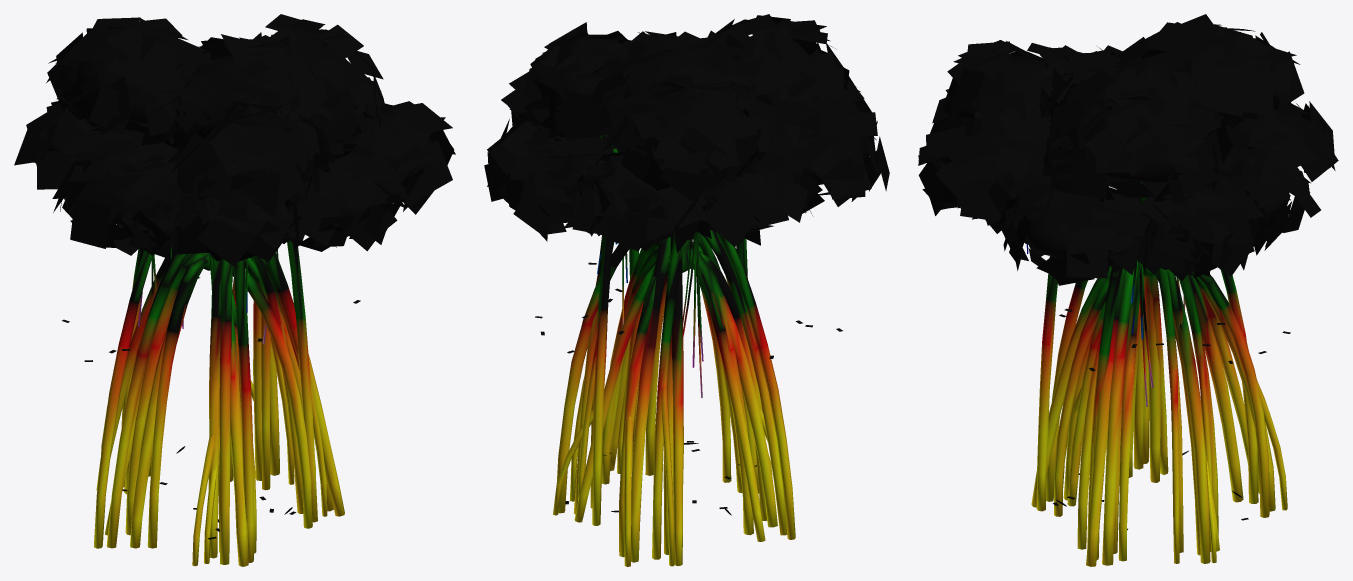
Rendered from mangrove_b.glb.
The picture shows the model from 3 angles, left to right: view 1: azimuth 30°, elevation 25°; view 2: azimuth 150°, elevation 25°; view 3: azimuth 270°, elevation 25°; orthographic projection. The views are drawn at different scales.
Parts seen in each view (by area): view 1: mangrove_b; view 2: mangrove_b; view 3: mangrove_b.
Boxes of the visible parts, x1,y1,x2,y2 form: mangrove_b: (14, 14, 455, 566); mangrove_b: (484, 14, 889, 566); mangrove_b: (918, 14, 1338, 566).
Bounding box in the file's own units: 6.75 × 8.03 × 6.52.
